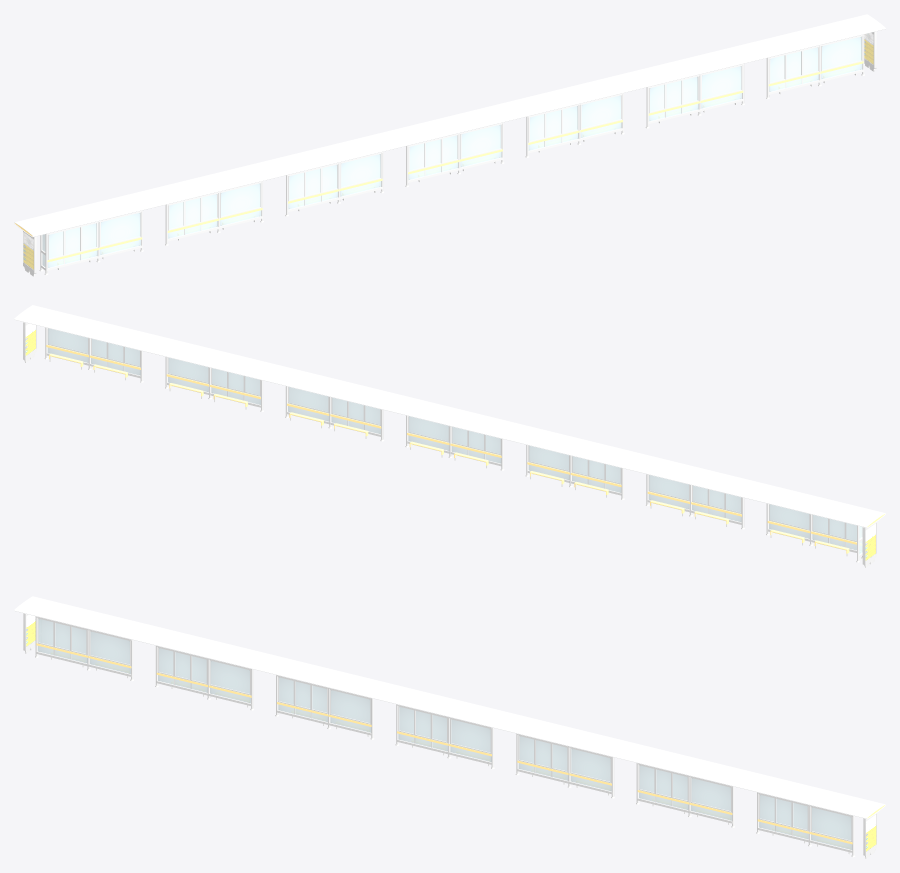
File: Bus_Stop_3.glb
3 renders of one model, top to bottom at view 1: azimuth 30°, elevation 25°; view 2: azimuth 150°, elevation 25°; view 3: azimuth 330°, elevation 25°, orthographic.
Parts seen in each view (by area): view 1: Bus_Stop_3; view 2: Bus_Stop_3; view 3: Bus_Stop_3.
Boxes of the visible parts, box(x1,y1,x2,y2) form: Bus_Stop_3: box(14, 14, 885, 276); Bus_Stop_3: box(14, 305, 885, 567); Bus_Stop_3: box(14, 596, 885, 858).
Bounding box in the file's own units: 51.5 × 2.7 × 2.
Materials: 5 (3 with a texture image).
